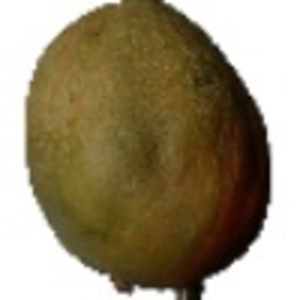mamão: (19, 3, 262, 291)
